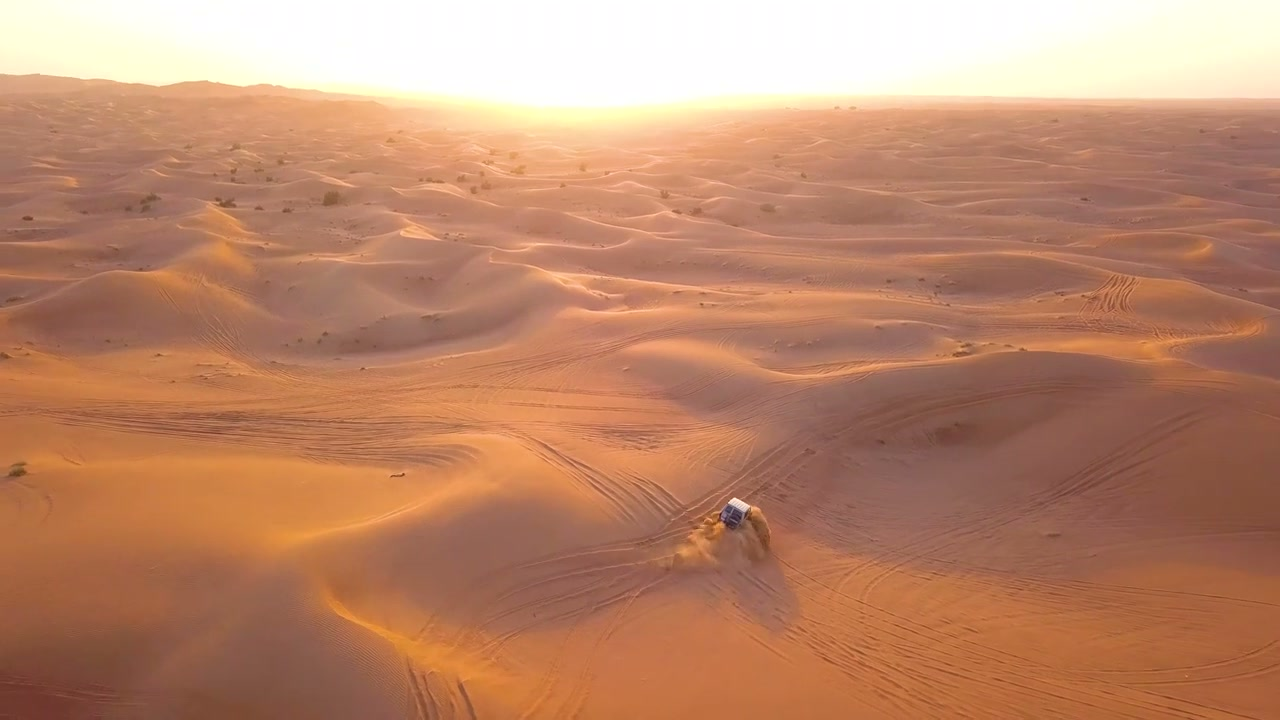vehicle_track: (479, 383, 1078, 651), (458, 433, 815, 652), (779, 557, 1249, 717), (836, 411, 1203, 599), (475, 420, 856, 586), (472, 431, 812, 602), (892, 557, 1276, 637), (458, 574, 665, 716), (459, 315, 841, 386), (39, 403, 465, 464), (818, 378, 1120, 445), (180, 275, 347, 396), (1022, 408, 1208, 512), (928, 558, 1279, 611), (1024, 412, 1200, 507), (548, 576, 664, 717), (504, 428, 675, 522), (851, 378, 1122, 434), (475, 561, 645, 649), (189, 276, 306, 385), (361, 382, 670, 416), (705, 565, 791, 662), (1094, 639, 1279, 684), (1076, 273, 1182, 340), (0, 673, 158, 717), (517, 418, 712, 452), (971, 307, 1151, 336), (700, 379, 817, 423), (662, 419, 759, 472), (1162, 315, 1276, 354), (405, 659, 476, 719), (468, 396, 670, 415), (420, 381, 647, 397), (991, 576, 1101, 602), (654, 366, 733, 401), (0, 477, 53, 523), (1086, 274, 1139, 314)
